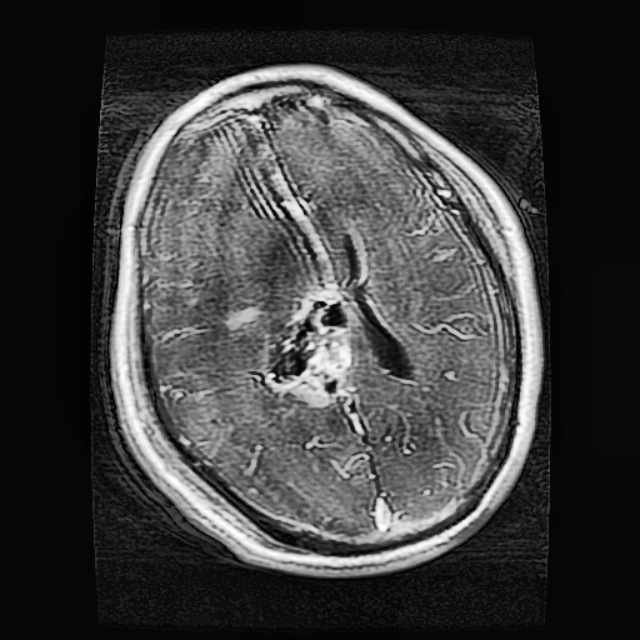Pituitary: (264, 284, 354, 405)
